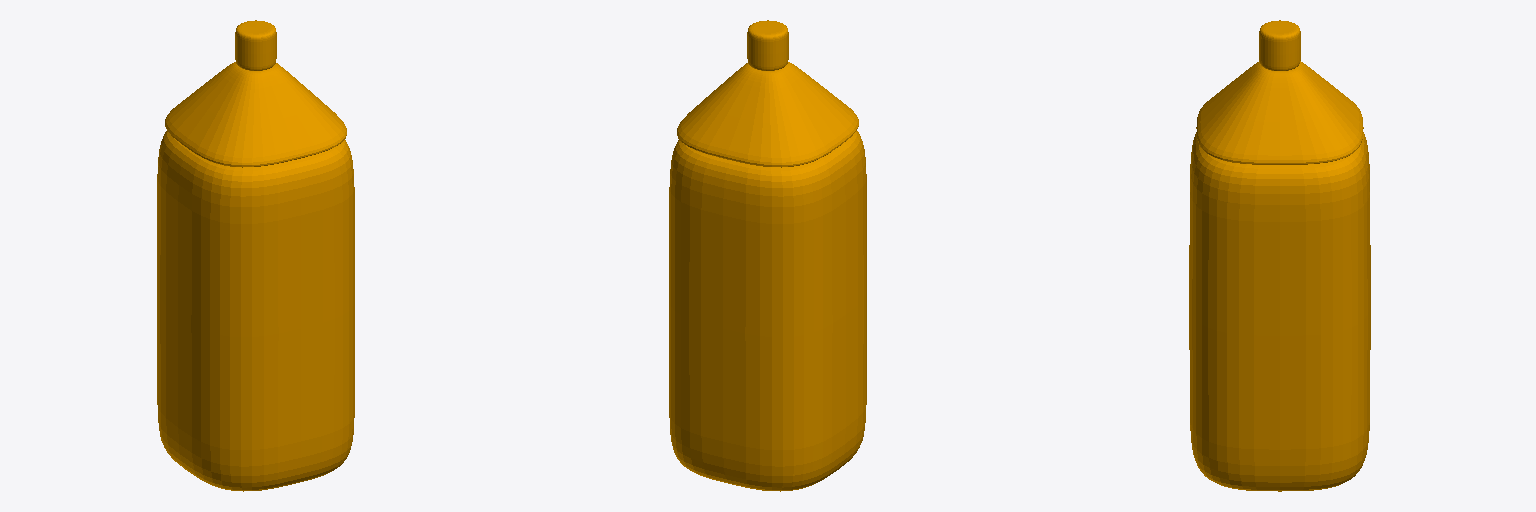
robot.urdf — object_746568318:

		<robot name="object_746568318">
			<link name="link_object_746568318">
				<visual>
					<geometry>
						<mesh filename="temp_object_746568318.obj" />
					</geometry>
				</visual>

				<collision>
					<geometry>
						<mesh filename="temp_object_746568318.obj" />
					</geometry>
				</collision>
				
				<inertial>
					<origin rpy="0 0 0" xyz="0 0 0"/>
					<mass value="0.3" />
					<inertia ixx="0.3" ixy="0" ixz="0" iyy="0.3" iyz="0" izz="0.3" />
				</inertial>
			</link>
		</robot>
		

--- What the picture shows (computed from the rendered views, not written in the file) ---
Views: 3 orthographic renders of the robot side by side, from view 1: azimuth 30°, elevation 25°; view 2: azimuth 150°, elevation 25°; view 3: azimuth 270°, elevation 25°.
Model object_746568318 with 1 links and 0 joints (none), rooted at link_object_746568318, posed every joint at zero.
Links seen in each view (by area): view 1: link_object_746568318; view 2: link_object_746568318; view 3: link_object_746568318.
Link boxes in pixels (x1,y1,x2,y2): link_object_746568318: [157, 20, 354, 491]; link_object_746568318: [669, 20, 866, 491]; link_object_746568318: [1189, 20, 1370, 491].
Size in the robot's own frame: 0.0789 by 0.0789 by 0.2089 metres.
1 mesh visuals loaded from 1 distinct referenced files (1 OBJ).
